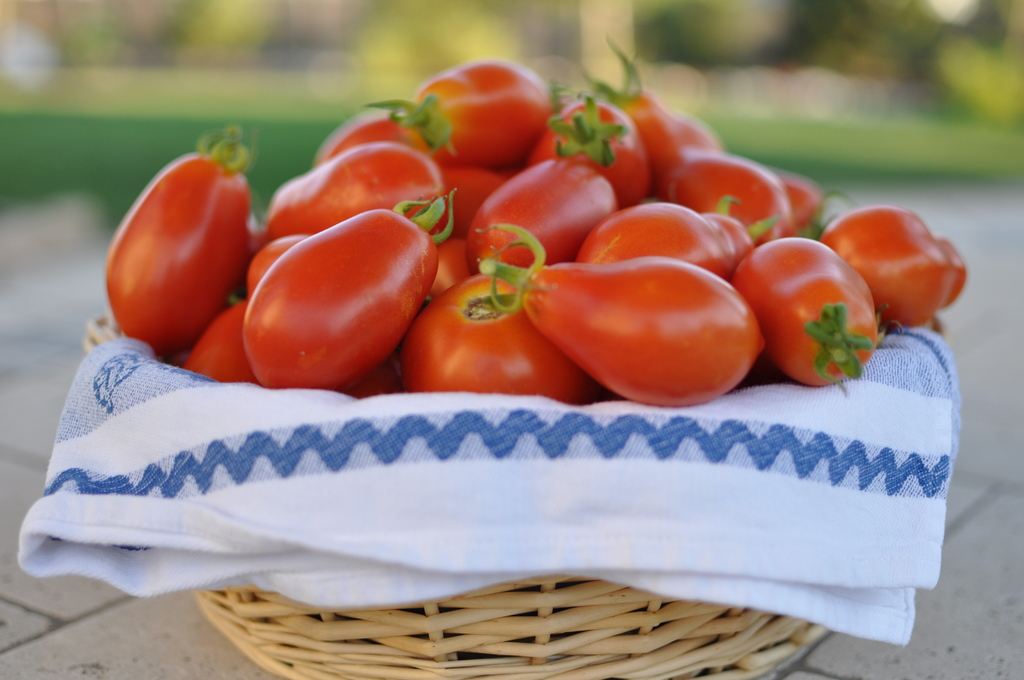Tomato: (243, 186, 457, 390), (531, 252, 775, 395), (102, 117, 251, 340), (408, 268, 595, 404), (718, 234, 881, 386), (571, 40, 722, 178), (466, 155, 621, 267), (261, 144, 448, 236), (377, 64, 554, 161), (819, 205, 949, 325), (577, 200, 739, 286), (541, 94, 653, 202), (675, 150, 794, 234), (312, 108, 432, 166), (188, 299, 251, 376)
